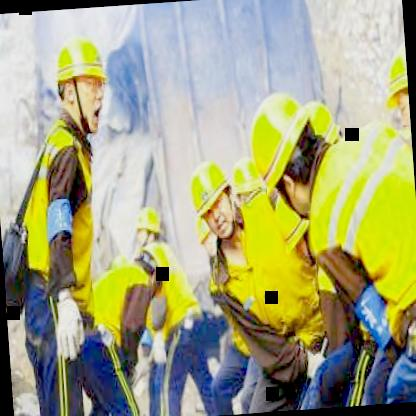helmet: (240, 88, 328, 222), (48, 27, 113, 142), (182, 150, 244, 250), (379, 34, 412, 149), (128, 240, 176, 298), (132, 202, 164, 250)
